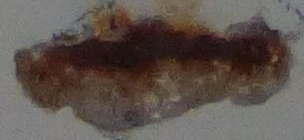Exposed reinforcement: (67, 36, 271, 74)
Spalling: (13, 1, 293, 135)
